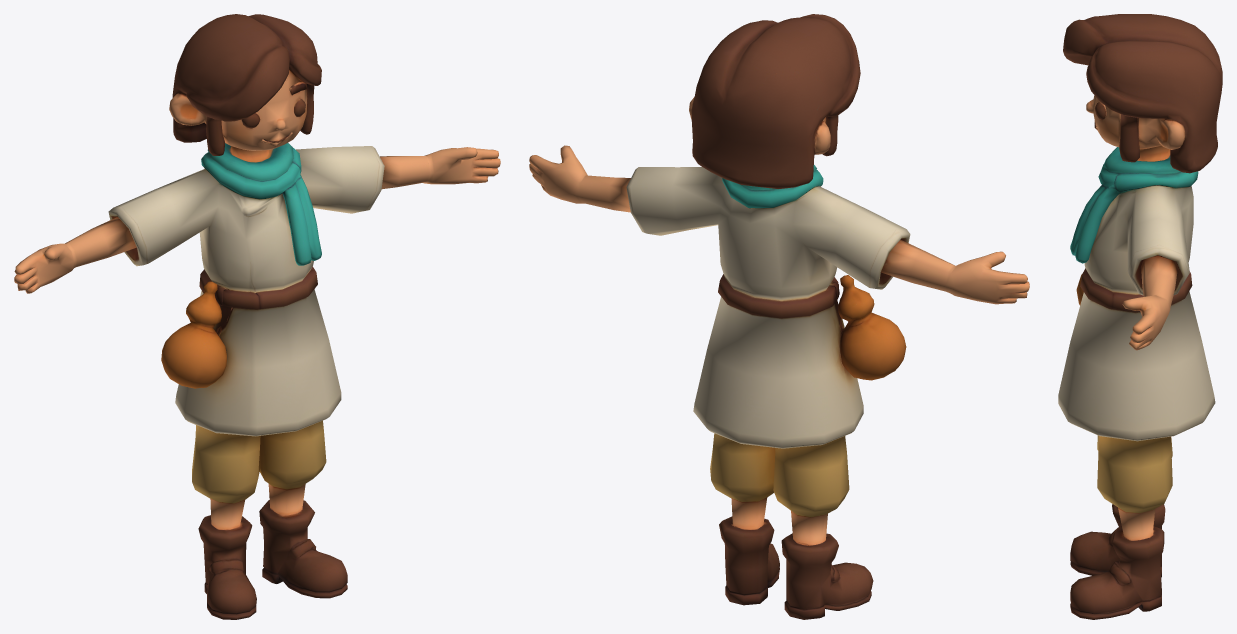
The model's file is jogador_para_mixamo.fbx.
3 renders of one model, left to right at view 1: azimuth 30°, elevation 25°; view 2: azimuth 150°, elevation 25°; view 3: azimuth 270°, elevation 25°, orthographic. The views are drawn at different scales.
Parts seen in each view (by area): view 1: tripo_node_af4ef3e2-2a68-4d0f-8b99-40c3fd26fac2; view 2: tripo_node_af4ef3e2-2a68-4d0f-8b99-40c3fd26fac2; view 3: tripo_node_af4ef3e2-2a68-4d0f-8b99-40c3fd26fac2.
Boxes of the visible parts, x1,y1,x2,y2 form: tripo_node_af4ef3e2-2a68-4d0f-8b99-40c3fd26fac2: (14,14,500,619); tripo_node_af4ef3e2-2a68-4d0f-8b99-40c3fd26fac2: (529,14,1029,619); tripo_node_af4ef3e2-2a68-4d0f-8b99-40c3fd26fac2: (1058,14,1222,619).
Bounding box in the file's own units: 90.82 × 99.8 × 26.37.
Materials: 1 (1 with a texture image).
